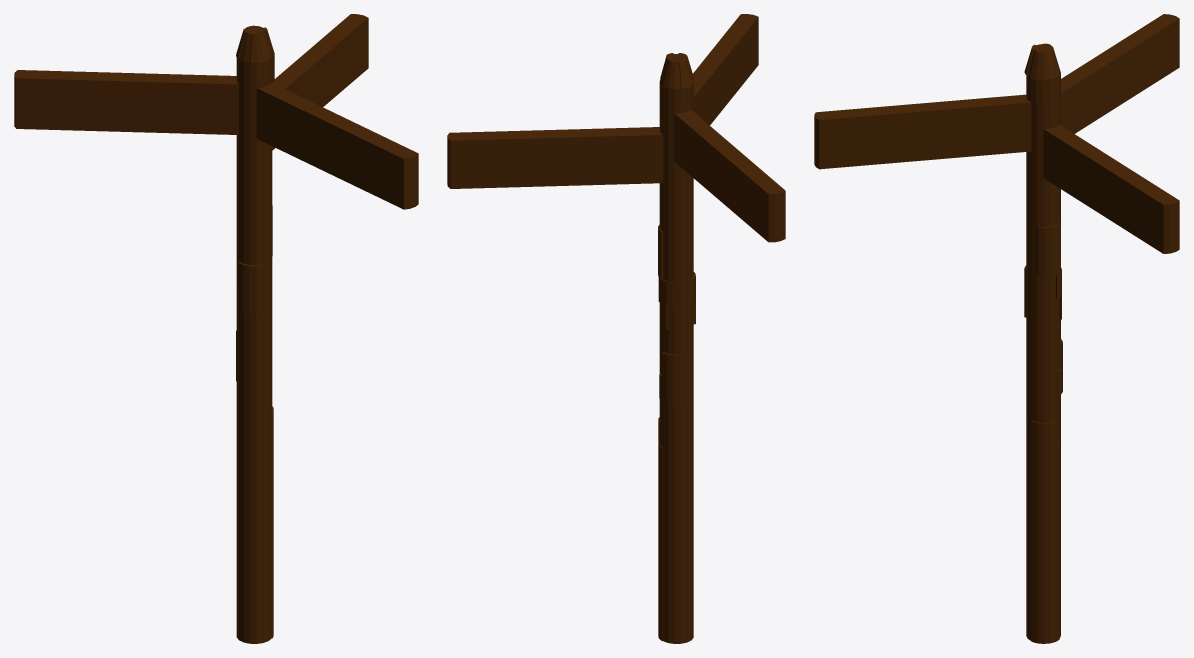
File: sign.fbx
3 views of the same model, side by side, from view 1: azimuth 30°, elevation 25°; view 2: azimuth 150°, elevation 25°; view 3: azimuth 270°, elevation 25° (orthographic). The views are drawn at different scales.
Visible parts, largest first — view 1: Cylinder; view 2: Cylinder; view 3: Cylinder.
Boxes of the visible parts, <box> form: Cylinder: <box>14,14,418,643</box>; Cylinder: <box>447,14,785,643</box>; Cylinder: <box>814,14,1179,643</box>.
Bounding box in the file's own units: 9.11 × 15.01 × 8.45.
